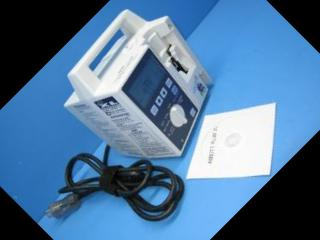plumxl1: (67, 8, 214, 156)
